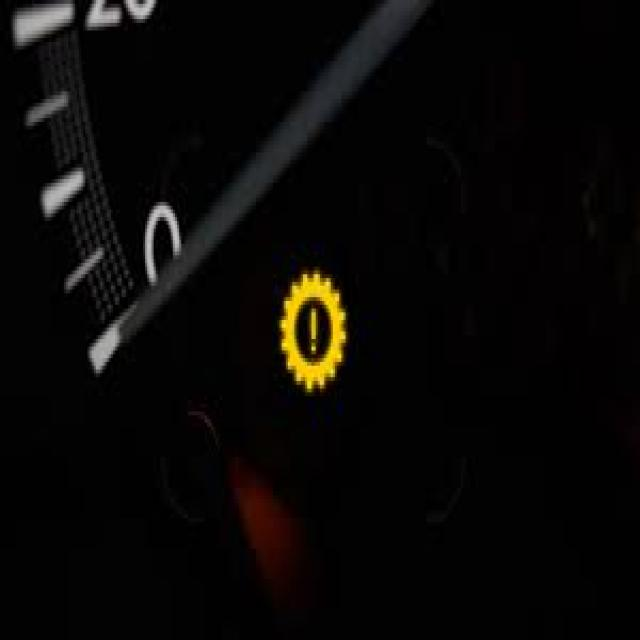kontrolka: (274, 262, 355, 404)
